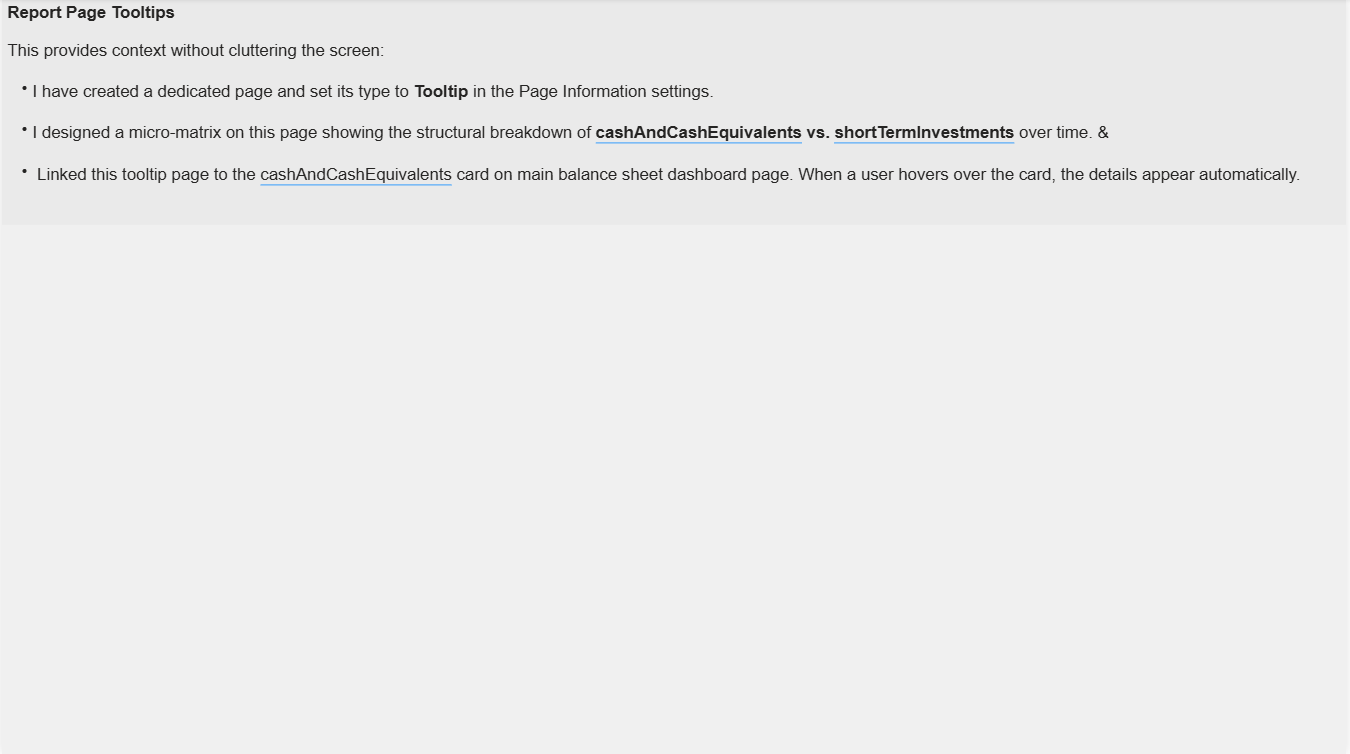

The dashboard page shown, as its layout file describes it:
{"tool":"powerbi","page":{"name":"Report Page Tooltips","canvas":[1280,720],"ordinal":9},"visuals":[{"type":"textbox","box":[0,0,1280.3,216],"z":0}]}

Visuals, with their boxes in screenshot pixels (x1, y1, x2, y2), scaled from the page's 1280x720 canvas onto the 1350x754 screenshot:
textbox: l=0, t=0, r=1349, b=226
